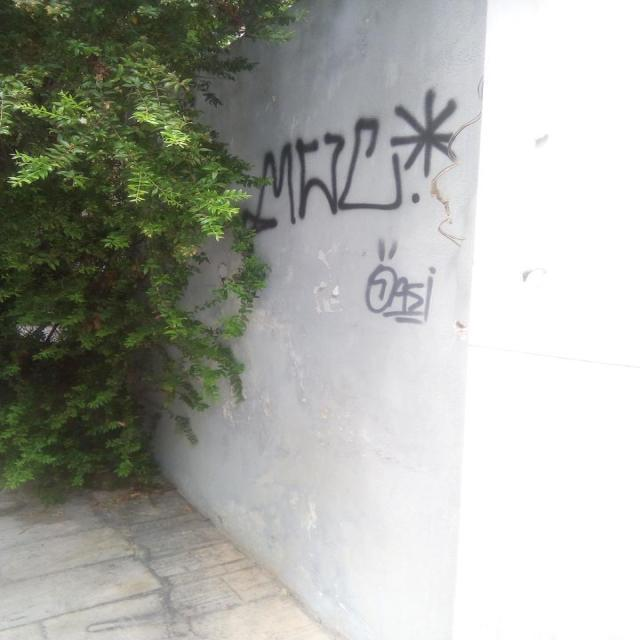nonspitting: (251, 86, 460, 222), (366, 238, 437, 328)
